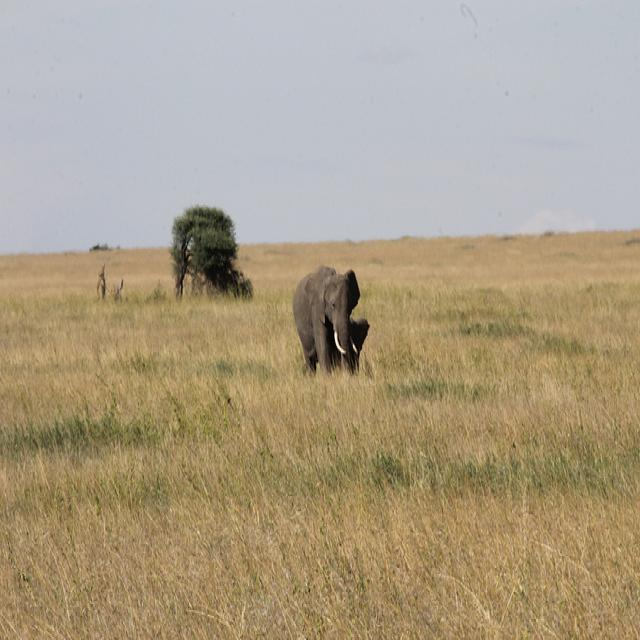Elephant: (292, 264, 370, 376)
